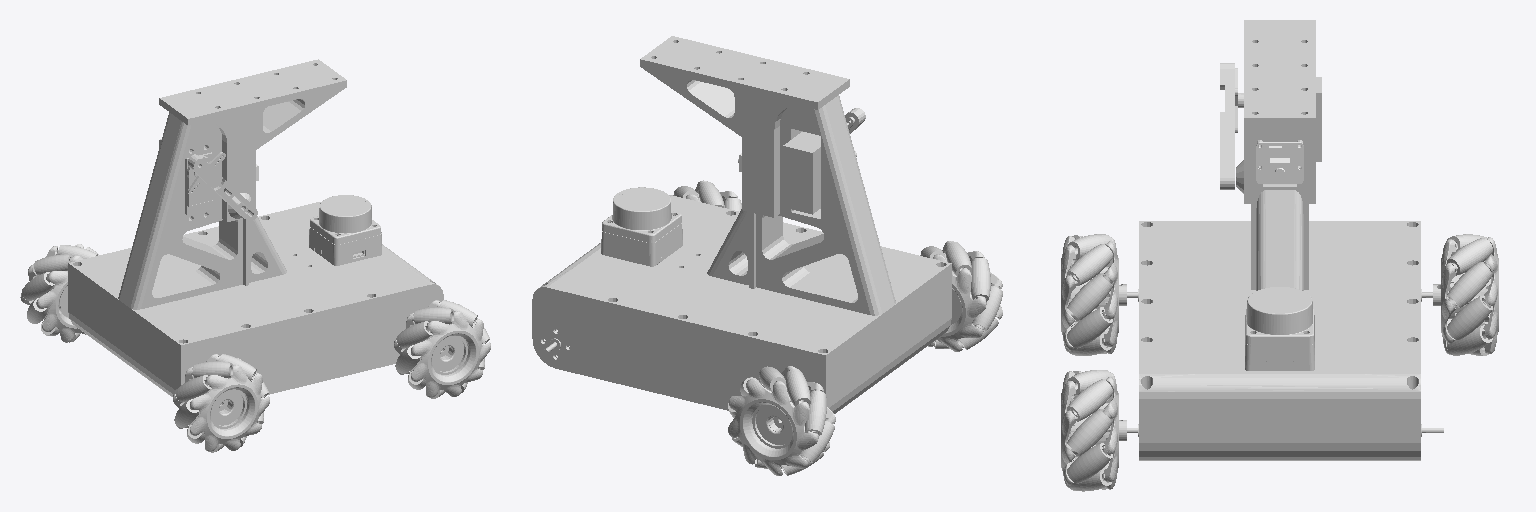
URDF robot description (dase7503_sim):
<?xml version='1.0' encoding='utf-8'?>
<robot name="dase7503_sim">
  <!-- Adapted from the supplied SolidWorks robotcar URDF. Wheel joints are fixed for the ideal /cmd_vel model. -->
  <link name="base_footprint" />
  <link name="base_link">
    <inertial>
      <origin xyz="-0.0102901357373328 -0.000143152333509986 0.0663039483430274" rpy="0 0 0" />
      <mass value="0.4421477422976" />
      <inertia ixx="0.000794932570013433" ixy="-3.77963531214016E-07" ixz="-1.47050334377941E-05" iyy="0.000902471317705811" iyz="-6.64836714952911E-08" izz="0.00116364397013762" />
    </inertial>
    <visual>
      <origin xyz="0 0 0" rpy="0 0 0" />
      <geometry>
        <mesh filename="package://robot_description/meshes/robotcar/base_link.STL" />
      </geometry>
      <material name="robotcar_gray">
        <color rgba="0.894117647058823 0.894117647058823 0.894117647058823 1" />
      </material>
    </visual>
    <collision>
      <origin xyz="0 0 0" rpy="0 0 0" />
      <geometry>
        <mesh filename="package://robot_description/meshes/robotcar/base_link.STL" />
      </geometry>
    </collision>
  </link>
  <link name="LF_link">
    <inertial>
      <origin xyz="7.65086724641151E-06 -0.00104129865405139 1.19386371190203E-05" rpy="0 0 0" />
      <mass value="0.0404606253323268" />
      <inertia ixx="4.20278091640384E-06" ixy="1.92898538937991E-09" ixz="1.35645529820161E-09" iyy="6.20724619816573E-06" iyz="-2.29126880816458E-09" izz="4.21144838999357E-06" />
    </inertial>
    <visual>
      <origin xyz="0 0 0" rpy="0 0 0" />
      <geometry>
        <mesh filename="package://robot_description/meshes/robotcar/LF_link.STL" />
      </geometry>
      <material name="robotcar_gray">
        <color rgba="0.894117647058823 0.894117647058823 0.894117647058823 1" />
      </material>
    </visual>
    <collision>
      <origin xyz="0 0 0" rpy="0 0 0" />
      <geometry>
        <mesh filename="package://robot_description/meshes/robotcar/LF_link.STL" />
      </geometry>
    </collision>
  </link>
  <joint name="LF_joint" type="fixed">
    <origin xyz="0.0850000000000002 0.1012 0.0159999999999996" rpy="0 0 0" />
    <parent link="base_link" />
    <child link="LF_link" />
  </joint>
  <link name="LB_link">
    <inertial>
      <origin xyz="7.64984809098479E-06 -0.0010412984749506 1.19388692482354E-05" rpy="0 0 0" />
      <mass value="0.0404606264091249" />
      <inertia ixx="4.20278141251386E-06" ixy="1.9288635764738E-09" ixz="1.35655166693005E-09" iyy="6.20724680171418E-06" iyz="-2.29129067133694E-09" izz="4.21144850573248E-06" />
    </inertial>
    <visual>
      <origin xyz="0 0 0" rpy="0 0 0" />
      <geometry>
        <mesh filename="package://robot_description/meshes/robotcar/LB_link.STL" />
      </geometry>
      <material name="robotcar_gray">
        <color rgba="0.894117647058823 0.894117647058823 0.894117647058823 1" />
      </material>
    </visual>
    <collision>
      <origin xyz="0 0 0" rpy="0 0 0" />
      <geometry>
        <mesh filename="package://robot_description/meshes/robotcar/LB_link.STL" />
      </geometry>
    </collision>
  </link>
  <joint name="LB_joint" type="fixed">
    <origin xyz="-0.0849999999999997 0.1012 0.0159999999999995" rpy="0 0 0" />
    <parent link="base_link" />
    <child link="LB_link" />
  </joint>
  <link name="RF_link">
    <inertial>
      <origin xyz="-7.65112004796897E-06 0.00104129857694946 1.19388216637123E-05" rpy="0 0 0" />
      <mass value="0.0404606249981401" />
      <inertia ixx="4.20278084769407E-06" ixy="1.92900651043832E-09" ixz="-1.35663574803246E-09" iyy="6.20724601768134E-06" iyz="2.29125686587E-09" izz="4.21144827378409E-06" />
    </inertial>
    <visual>
      <origin xyz="0 0 0" rpy="0 0 0" />
      <geometry>
        <mesh filename="package://robot_description/meshes/robotcar/RF_link.STL" />
      </geometry>
      <material name="robotcar_gray">
        <color rgba="0.894117647058823 0.894117647058823 0.894117647058823 1" />
      </material>
    </visual>
    <collision>
      <origin xyz="0 0 0" rpy="0 0 0" />
      <geometry>
        <mesh filename="package://robot_description/meshes/robotcar/RF_link.STL" />
      </geometry>
    </collision>
  </link>
  <joint name="RF_joint" type="fixed">
    <origin xyz="0.0849999999999997 -0.1012 0.0159999999999876" rpy="0 0 0" />
    <parent link="base_link" />
    <child link="RF_link" />
  </joint>
  <link name="RB_link">
    <inertial>
      <origin xyz="9.4450241936439E-06 1.05759862263355E-05 0.0994087016547882" rpy="0 0 0" />
      <mass value="0.0404606251750761" />
      <inertia ixx="4.21012073836101E-06" ixy="3.40359336821703E-09" ixz="-2.72522281828846E-09" iyy="4.20410850421138E-06" iyz="1.24249493236254E-09" izz="6.20724613985455E-06" />
    </inertial>
    <visual>
      <origin xyz="0 0 0" rpy="0 0 0" />
      <geometry>
        <mesh filename="package://robot_description/meshes/robotcar/RB_link.STL" />
      </geometry>
      <material name="robotcar_gray">
        <color rgba="0.894117647058823 0.894117647058823 0.894117647058823 1" />
      </material>
    </visual>
    <collision>
      <origin xyz="0 0 0" rpy="0 0 0" />
      <geometry>
        <mesh filename="package://robot_description/meshes/robotcar/RB_link.STL" />
      </geometry>
    </collision>
  </link>
  <joint name="RB_joint" type="fixed">
    <origin xyz="-0.0849999999999989 -0.000750000000000001 0.0159999999999999" rpy="1.5707963267949 -1.2988328850493 0" />
    <parent link="base_link" />
    <child link="RB_link" />
  </joint>
  <link name="Lidar">
    <inertial>
      <origin xyz="8.95485404259766E-05 6.45031621386606E-05 -0.0175503073701507" rpy="0 0 0" />
      <mass value="0.0385602030507237" />
      <inertia ixx="7.05137530779E-06" ixy="-1.60824465882329E-07" ixz="9.50588785071137E-09" iyy="7.10435775569415E-06" iyz="3.99622243002862E-08" izz="7.61279332869612E-06" />
    </inertial>
    <visual>
      <origin xyz="0 0 0" rpy="0 0 0" />
      <geometry>
        <mesh filename="package://robot_description/meshes/robotcar/Lidar.STL" />
      </geometry>
      <material name="robotcar_gray">
        <color rgba="0.894117647058823 0.894117647058823 0.894117647058823 1" />
      </material>
    </visual>
    <collision>
      <origin xyz="0 0 0" rpy="0 0 0" />
      <geometry>
        <mesh filename="package://robot_description/meshes/robotcar/Lidar.STL" />
      </geometry>
    </collision>
  </link>
  <joint name="lidar_joint" type="fixed">
    <origin xyz="0.068835963325927 0 0.0848000000000003" rpy="0 0 0" />
    <parent link="base_link" />
    <child link="Lidar" />
  </joint>
  <link name="Camera">
    <inertial>
      <origin xyz="-0.00671560436392438 -0.000107338143380788 0.000745945761611133" rpy="0 0 0" />
      <mass value="0.001522068455105" />
      <inertia ixx="8.8262588187641E-08" ixy="-1.56892051083876E-10" ixz="-1.27598781480275E-10" iyy="5.7974231554933E-08" iyz="9.67912937674032E-10" izz="4.87939120481317E-08" />
    </inertial>
    <visual>
      <origin xyz="0 0 0" rpy="0 0 0" />
      <geometry>
        <mesh filename="package://robot_description/meshes/robotcar/Camera.STL" />
      </geometry>
      <material name="robotcar_camera_white">
        <color rgba="1 1 1 1" />
      </material>
    </visual>
    <collision>
      <origin xyz="0 0 0" rpy="0 0 0" />
      <geometry>
        <mesh filename="package://robot_description/meshes/robotcar/Camera.STL" />
      </geometry>
    </collision>
  </link>
  <joint name="camera_joint" type="fixed">
    <origin xyz="0.001 0 0.127" rpy="0 0 0" />
    <parent link="base_link" />
    <child link="Camera" />
  </joint>
  <joint name="base_joint" type="fixed">
    <parent link="base_footprint" />
    <child link="base_link" />
    <origin xyz="0 0 0.016328981906188" rpy="0 0 0" />
  </joint>
  <!-- Ground offset puts the lowest tyre vertex at z=0. Sensor joint origins remain as exported. -->
  <link name="laser" />
  <joint name="laser_frame_joint" type="fixed">
    <parent link="Lidar" />
    <child link="laser" />
    <origin xyz="0 0 0" rpy="0 0 0" />
  </joint>
  <link name="cam_link" />
  <joint name="camera_frame_joint" type="fixed">
    <parent link="Camera" />
    <child link="cam_link" />
    <origin xyz="0 0 0" rpy="0 0 0" />
  </joint>
  <link name="camera_optical_frame" />
  <joint name="camera_optical_joint" type="fixed">
    <parent link="cam_link" />
    <child link="camera_optical_frame" />
    <origin xyz="0 0 0" rpy="-1.5707963267948966 0 -1.5707963267948966" />
  </joint>
</robot>

--- Facts derived from the render (not from the file) ---
Views: 3 orthographic renders of the robot side by side, from view 1: azimuth 30°, elevation 25°; view 2: azimuth 150°, elevation 25°; view 3: azimuth 270°, elevation 25°.
Robot: dase7503_sim — 11 links, 10 joints (10 fixed); root link base_footprint; default pose: all joints at 0.
Visible links, largest first — view 1: base_link, RF_link, RB_link, Lidar, LB_link; view 2: base_link, LB_link, Lidar, RB_link, RF_link; view 3: base_link, RB_link, LB_link, RF_link, Lidar, Camera.
Link boxes in pixels (x1,y1,x2,y2): base_link: (68, 59, 443, 396); RF_link: (394, 300, 490, 398); RB_link: (173, 354, 269, 452); Lidar: (309, 195, 381, 265); LB_link: (20, 244, 98, 342); base_link: (532, 36, 951, 413); LB_link: (728, 366, 835, 475); Lidar: (601, 187, 682, 266); RB_link: (920, 241, 1002, 351); RF_link: (673, 180, 741, 211); base_link: (1127, 20, 1443, 460); RB_link: (1061, 234, 1126, 355); LB_link: (1433, 234, 1498, 355); RF_link: (1061, 370, 1126, 491); Lidar: (1245, 287, 1314, 370); Camera: (1256, 142, 1303, 183).
Size in the robot's own frame: 0.2347 by 0.232 by 0.2033 metres.
6 mesh visuals loaded from 7 distinct referenced files (6 binary STL); not drawn: 1 (reference not matched to a file when rendering).
